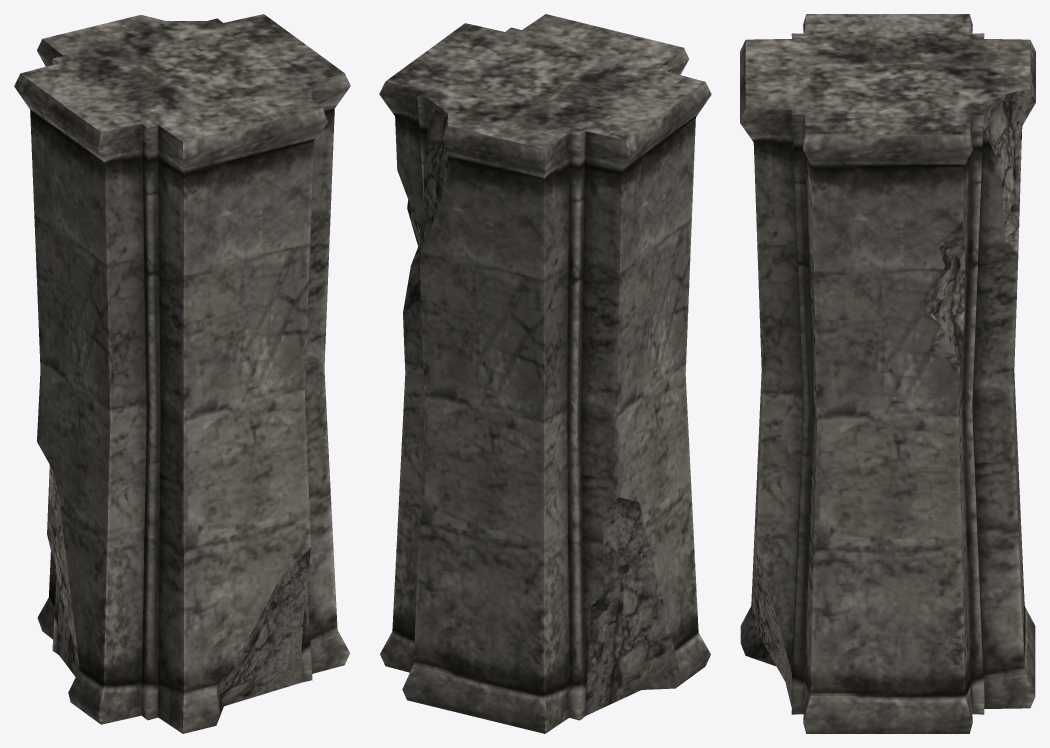
Rendered from Pillar1C.fbx.
3 views of the same model, side by side, from view 1: azimuth 30°, elevation 25°; view 2: azimuth 150°, elevation 25°; view 3: azimuth 270°, elevation 25° (orthographic). The views are drawn at different scales.
Parts seen in each view (by area): view 1: polySurface51; view 2: polySurface51; view 3: polySurface51.
Part boxes in pixels (left/top/right/bottom): polySurface51: left=14, top=14, right=350, bottom=733; polySurface51: left=379, top=14, right=711, bottom=733; polySurface51: left=740, top=14, right=1035, bottom=733.
Bounding box in the file's own units: 2.42 × 5.41 × 2.42.
